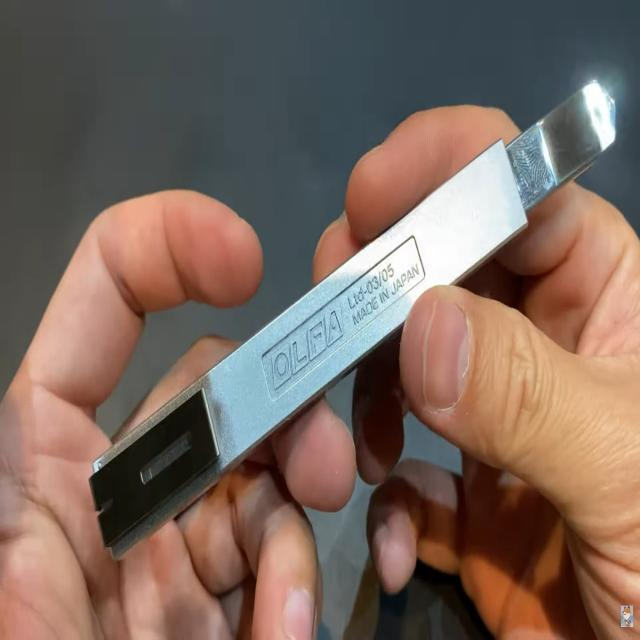cutter: (6, 53, 640, 640)
